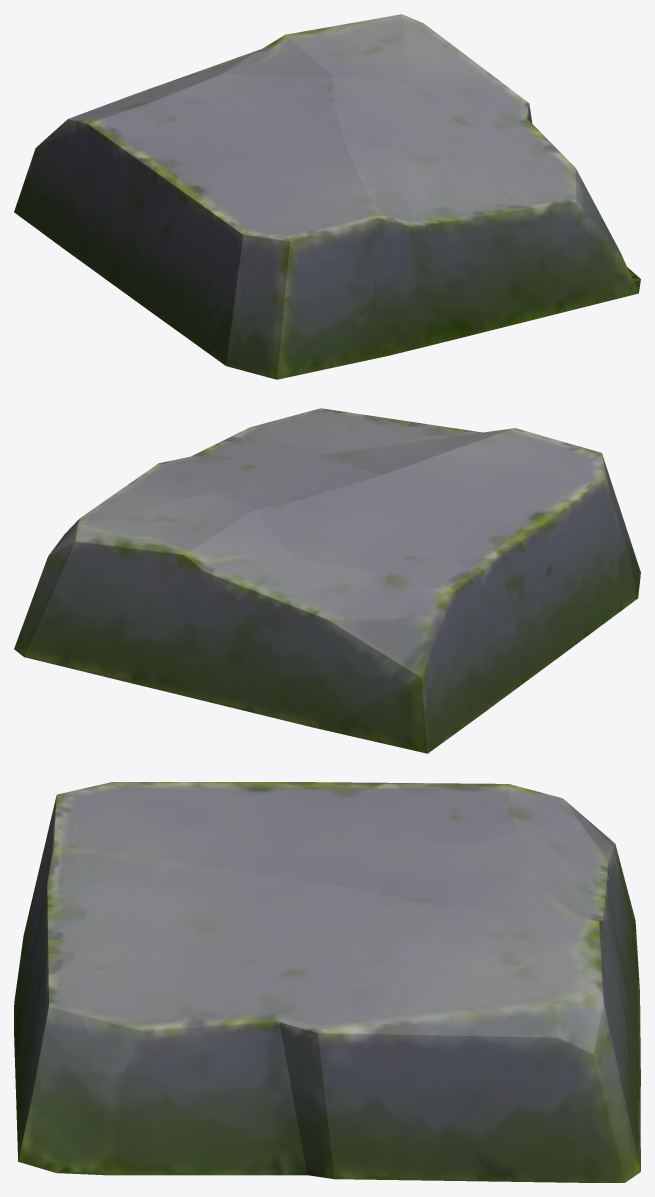
The model's file is Pebble_Square_1.gltf.
The picture shows the model from 3 angles, top to bottom: view 1: azimuth 30°, elevation 25°; view 2: azimuth 150°, elevation 25°; view 3: azimuth 270°, elevation 25°; orthographic projection. The views are drawn at different scales.
Visible parts, largest first — view 1: Pebble_Square_1; view 2: Pebble_Square_1; view 3: Pebble_Square_1.
Boxes of the visible parts, bbox=[...] form: Pebble_Square_1: bbox=[14, 14, 640, 379]; Pebble_Square_1: bbox=[14, 408, 640, 753]; Pebble_Square_1: bbox=[14, 782, 640, 1182].
Size of the model in its own units: 0.4346 by 0.1299 by 0.4396.
1 material, 1 textured.
